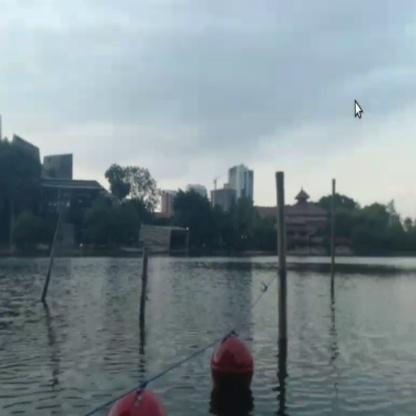red_buoy: (211, 340, 254, 401), (113, 394, 159, 412)
